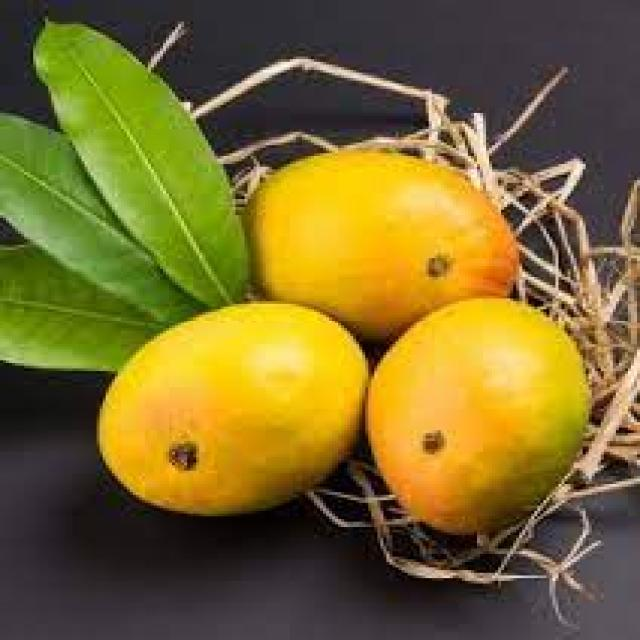mango: (230, 141, 533, 353), (97, 301, 371, 522), (365, 285, 589, 533)
